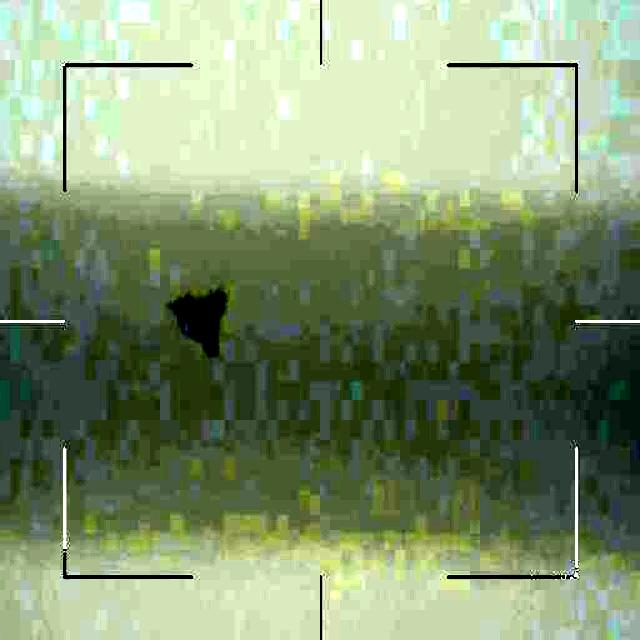bird: (165, 285, 232, 362)
